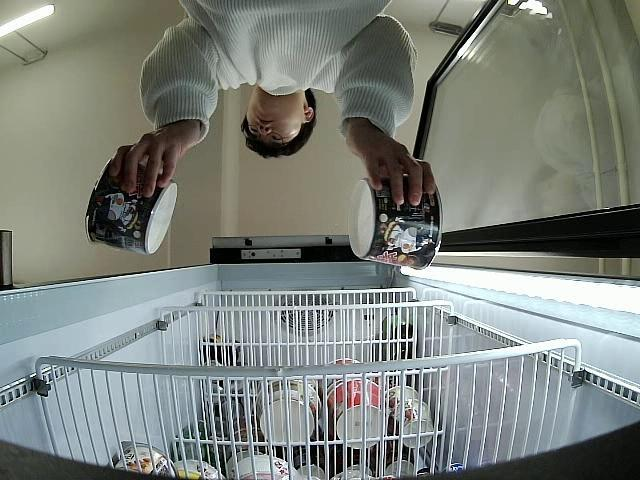07_buldak_L: (85, 154, 177, 253), (348, 176, 442, 270)
